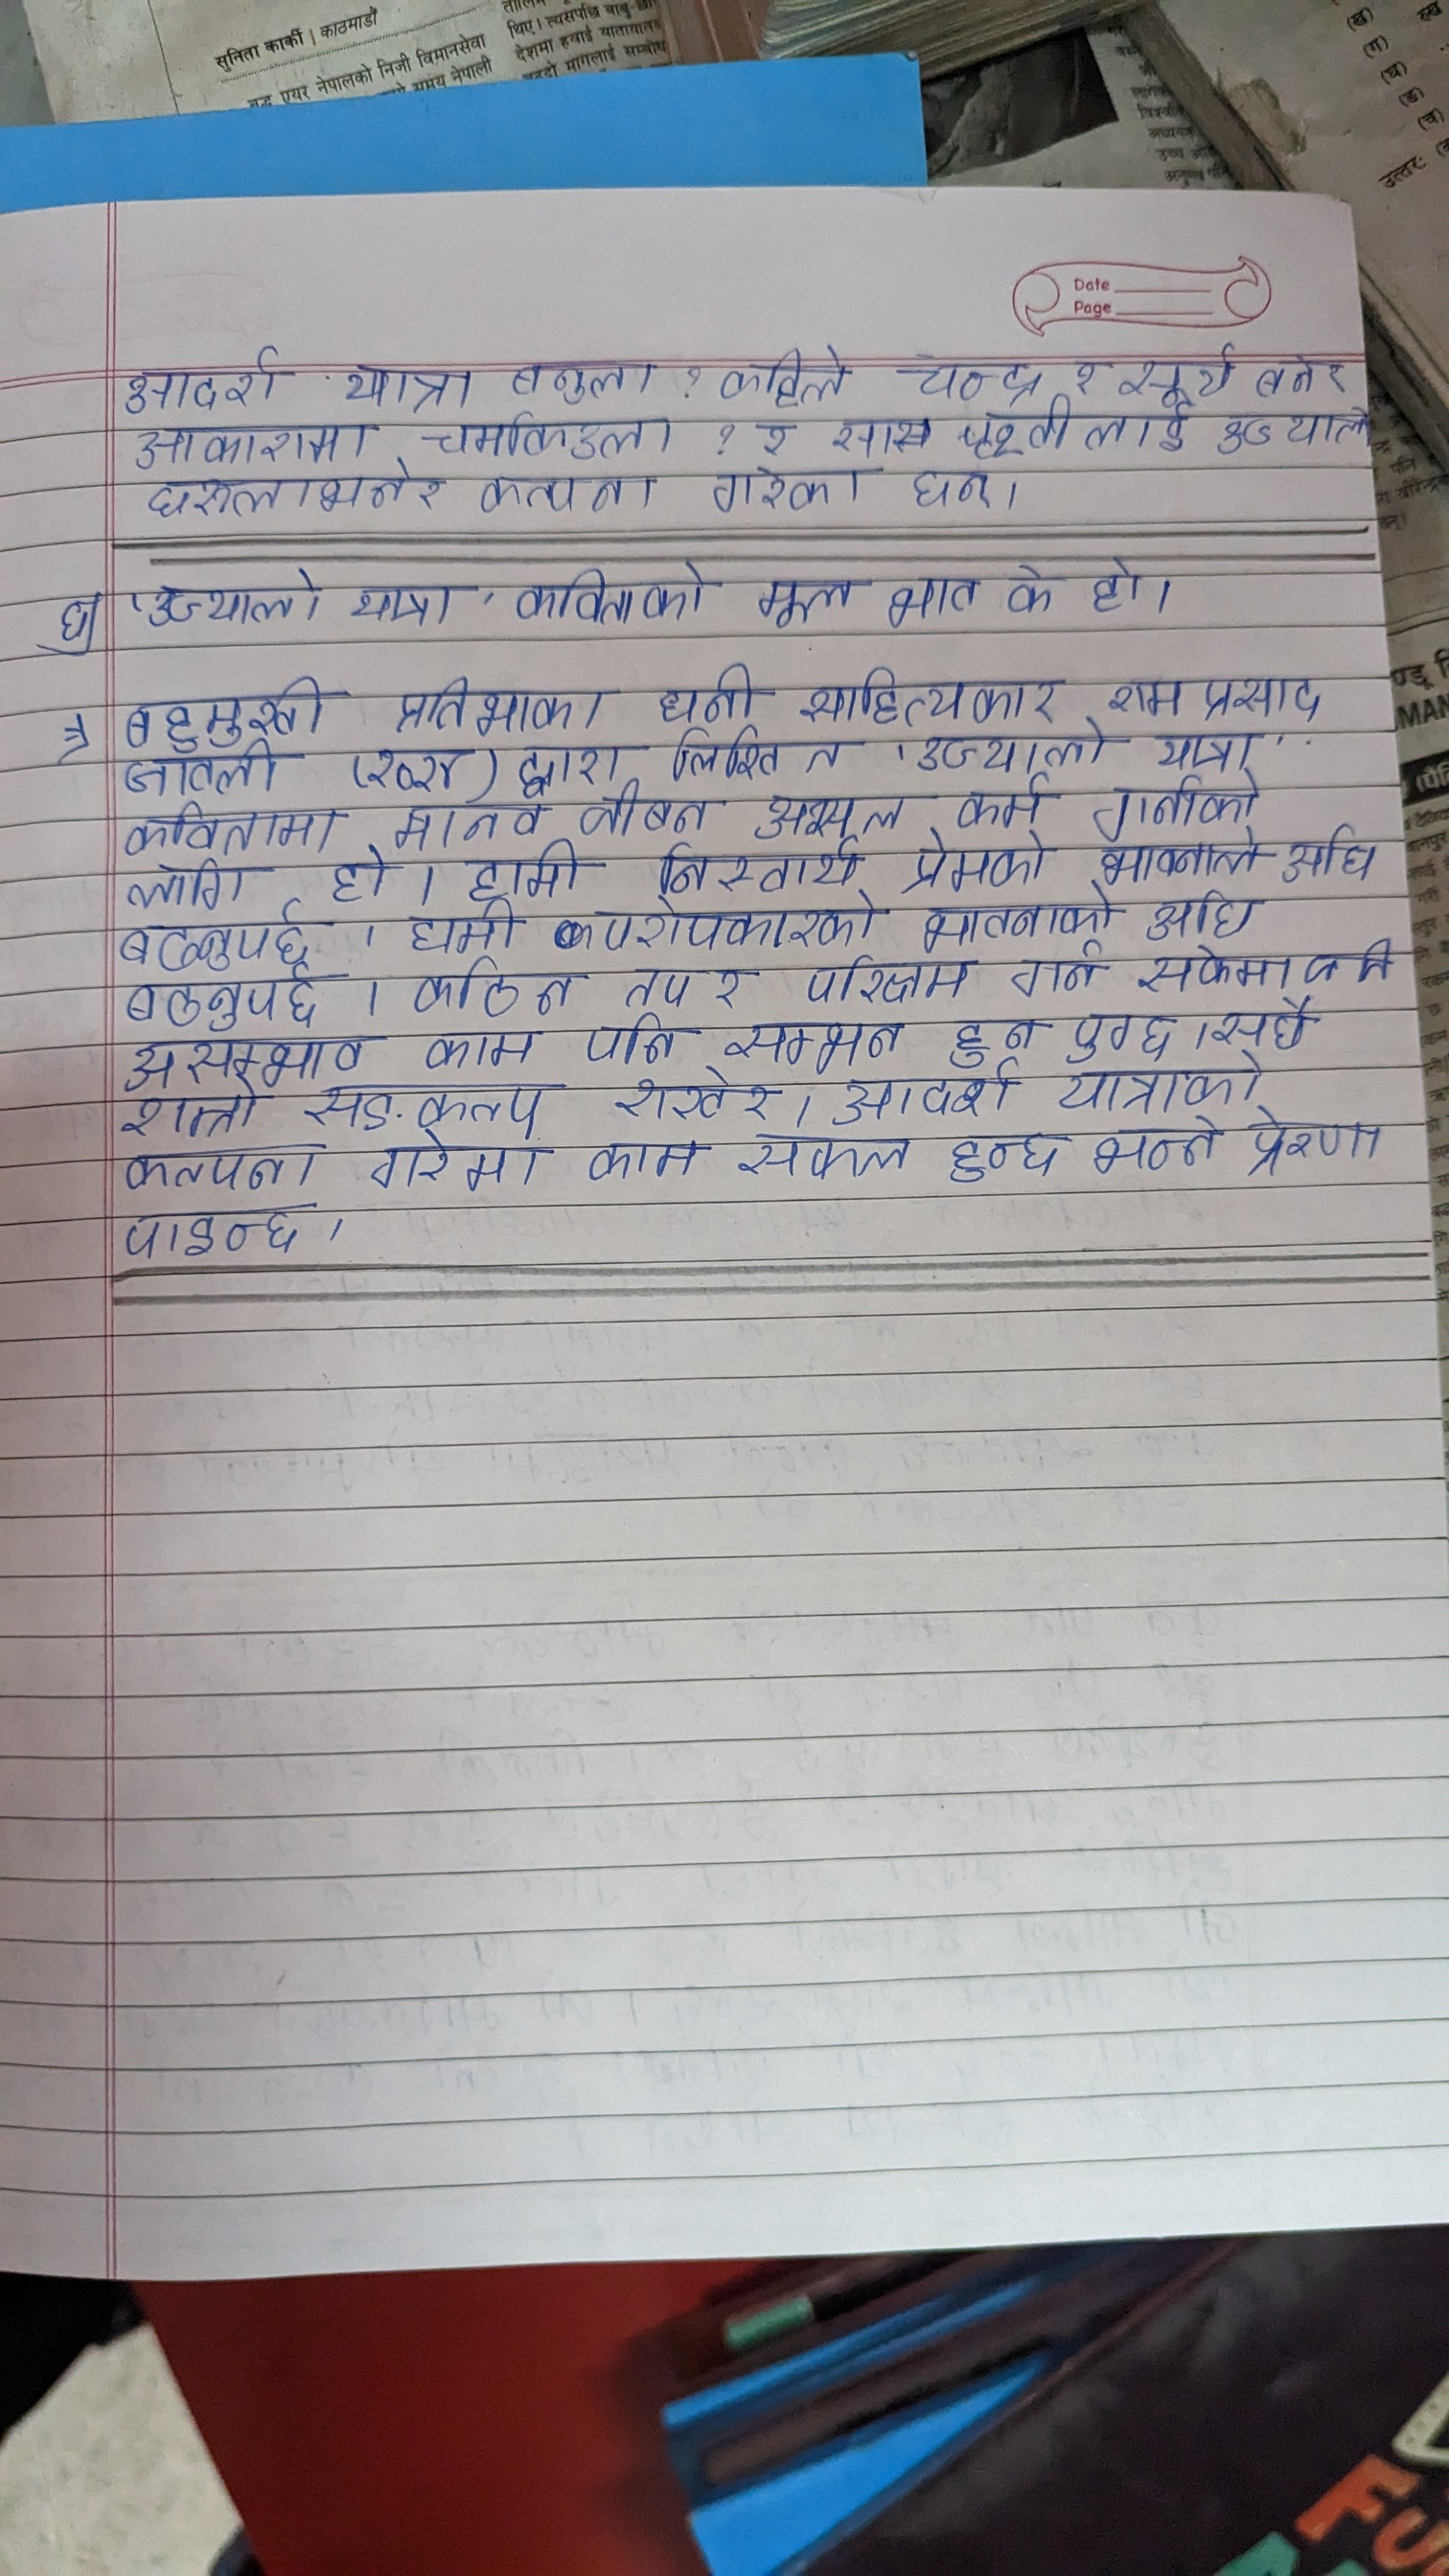text: (110, 1200, 340, 1276), (510, 556, 727, 633), (593, 893, 892, 950), (145, 469, 446, 524), (798, 662, 1063, 724), (384, 669, 612, 736), (117, 679, 340, 747), (957, 400, 1196, 458), (117, 1031, 373, 1083), (418, 410, 681, 460), (372, 1134, 564, 1200), (920, 890, 1129, 950), (117, 800, 350, 853), (115, 908, 320, 968), (113, 347, 304, 410), (1238, 1108, 1394, 1184), (124, 970, 329, 1026), (734, 1129, 922, 1191), (131, 421, 379, 467), (311, 1085, 556, 1131), (145, 568, 326, 630), (1086, 771, 1281, 828), (704, 340, 865, 407), (833, 1065, 1023, 1122), (653, 839, 870, 886), (669, 729, 856, 784), (407, 959, 587, 1016), (704, 462, 890, 517), (722, 1016, 908, 1070), (119, 1145, 329, 1192), (1054, 1056, 1272, 1102), (897, 830, 1065, 888), (648, 651, 778, 725), (918, 722, 1108, 773), (1090, 1111, 1228, 1180), (612, 1067, 778, 1123), (327, 354, 476, 416), (754, 784, 925, 837), (796, 955, 977, 1005), (472, 469, 663, 515), (1095, 832, 1272, 879), (117, 858, 280, 909), (1120, 333, 1240, 402), (501, 350, 662, 402), (947, 1123, 1072, 1189), (1141, 941, 1295, 994), (752, 563, 869, 632), (120, 1086, 258, 1143), (1215, 405, 1373, 453), (395, 798, 545, 847), (119, 752, 287, 796), (1196, 667, 1330, 722), (893, 352, 1047, 400), (579, 1132, 711, 1187), (345, 575, 469, 633), (1283, 821, 1384, 890), (1145, 885, 1258, 945), (1207, 993, 1327, 1049), (577, 786, 709, 837), (1249, 336, 1352, 400), (419, 1021, 545, 1072), (407, 901, 520, 957), (465, 840, 580, 895), (587, 1010, 701, 1065), (952, 771, 1067, 824), (1069, 1007, 1178, 1062), (511, 741, 628, 791), (883, 568, 980, 626), (1145, 724, 1263, 768), (1300, 932, 1398, 985), (902, 462, 996, 517), (1014, 945, 1109, 998), (945, 1010, 1037, 1065), (366, 745, 469, 791), (1085, 548, 1148, 621), (830, 410, 929, 456), (1001, 561, 1065, 630), (1100, 669, 1184, 718), (621, 962, 701, 1008), (333, 844, 386, 904), (711, 957, 766, 1008), (55, 577, 94, 640), (745, 416, 801, 458), (1065, 350, 1113, 391)
